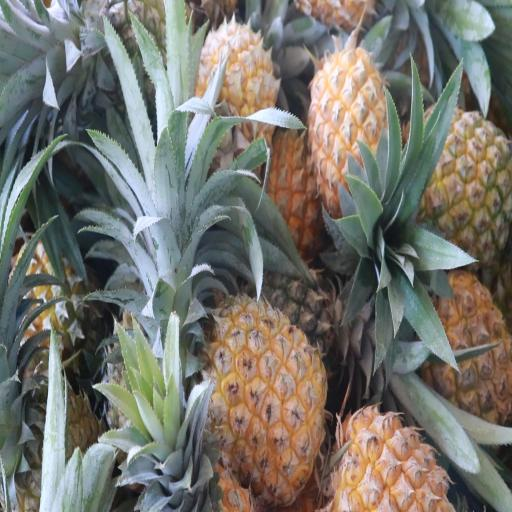Pineapple - v8 v1: (211, 295, 326, 500), (310, 44, 397, 216), (419, 113, 512, 272), (419, 271, 512, 425), (330, 408, 454, 512), (196, 17, 276, 159)
